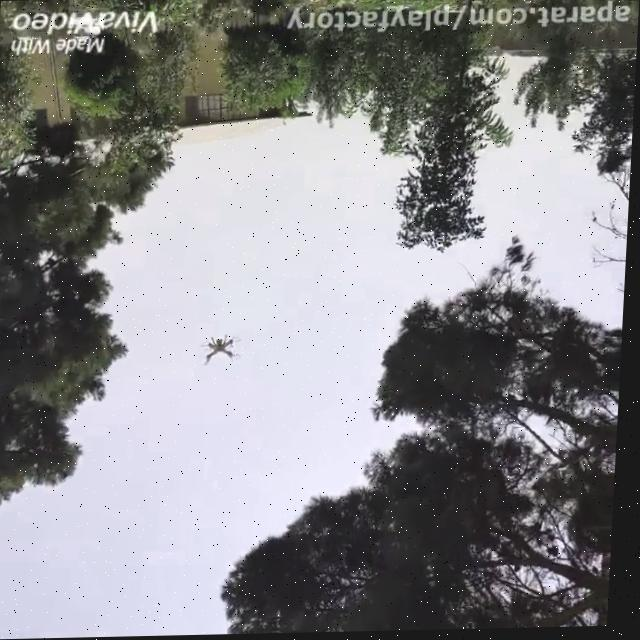drone: (199, 334, 244, 372)
